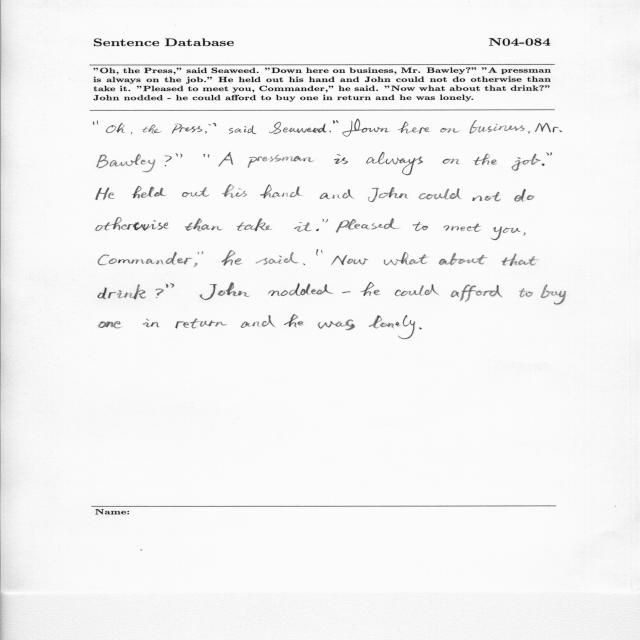word: (367, 152, 424, 175), (98, 252, 192, 265), (369, 315, 415, 339), (97, 154, 155, 172), (96, 217, 169, 231), (335, 218, 399, 233), (451, 284, 503, 302), (200, 282, 250, 300), (248, 155, 314, 168), (268, 283, 334, 296), (342, 119, 390, 136), (469, 120, 525, 134), (98, 285, 146, 300), (269, 122, 327, 134), (260, 185, 303, 199), (368, 187, 408, 202), (439, 253, 487, 265), (176, 318, 227, 329), (256, 252, 299, 265), (384, 252, 427, 265), (541, 284, 567, 305), (395, 284, 440, 296), (512, 154, 541, 171), (185, 219, 222, 232), (419, 189, 462, 200), (237, 219, 272, 232), (241, 315, 275, 328), (132, 186, 167, 198), (398, 121, 430, 134), (502, 254, 536, 266), (318, 320, 355, 331), (491, 227, 520, 241), (332, 255, 369, 265), (319, 189, 354, 199), (221, 250, 242, 266), (444, 223, 481, 232), (222, 185, 247, 198), (172, 124, 202, 134), (472, 192, 501, 202), (361, 282, 381, 296), (514, 189, 535, 202), (535, 123, 562, 133), (182, 188, 209, 198), (473, 154, 497, 165), (284, 315, 304, 328), (229, 125, 256, 134), (95, 188, 115, 200), (165, 154, 183, 167), (219, 152, 233, 167), (106, 123, 125, 133), (98, 321, 121, 329), (156, 284, 169, 298), (142, 125, 162, 134), (294, 222, 311, 232), (143, 319, 159, 328), (334, 154, 348, 164), (413, 222, 428, 231), (519, 289, 533, 298), (443, 159, 460, 165), (440, 128, 460, 133), (316, 219, 324, 231), (205, 124, 211, 134), (316, 249, 322, 256), (94, 120, 99, 125), (170, 283, 175, 288), (333, 120, 339, 124), (546, 152, 552, 156), (198, 252, 204, 255), (342, 292, 351, 294), (213, 123, 217, 127), (194, 263, 198, 267), (542, 163, 545, 166), (326, 219, 328, 223), (524, 232, 526, 236), (528, 131, 530, 134), (204, 154, 206, 157), (419, 328, 422, 330), (329, 131, 331, 133), (208, 155, 209, 159), (303, 264, 305, 266), (131, 132, 132, 135)
